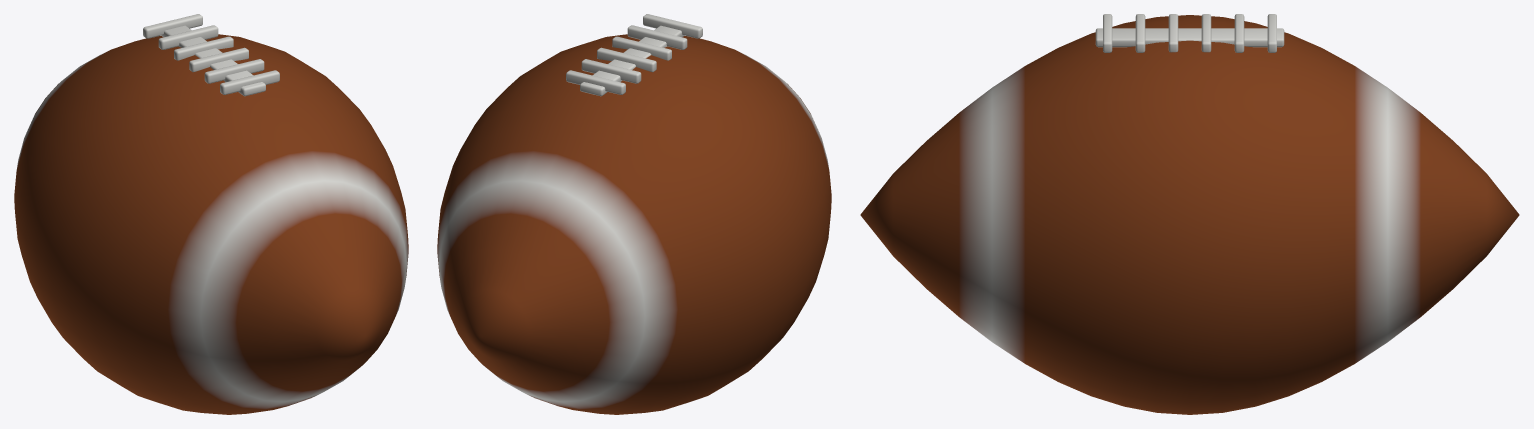
The model's file is football.glb.
3 renders of one model, left to right at view 1: azimuth 30°, elevation 25°; view 2: azimuth 150°, elevation 25°; view 3: azimuth 270°, elevation 25°, orthographic. The views are drawn at different scales.
Visible parts, largest first — view 1: football; view 2: football; view 3: football.
Part boxes in pixels (x1,y1,x2,y2): football: (14,14,408,414); football: (437,14,831,414); football: (860,14,1519,414).
Size of the model in its own units: 0.17 by 0.1725 by 0.28.
